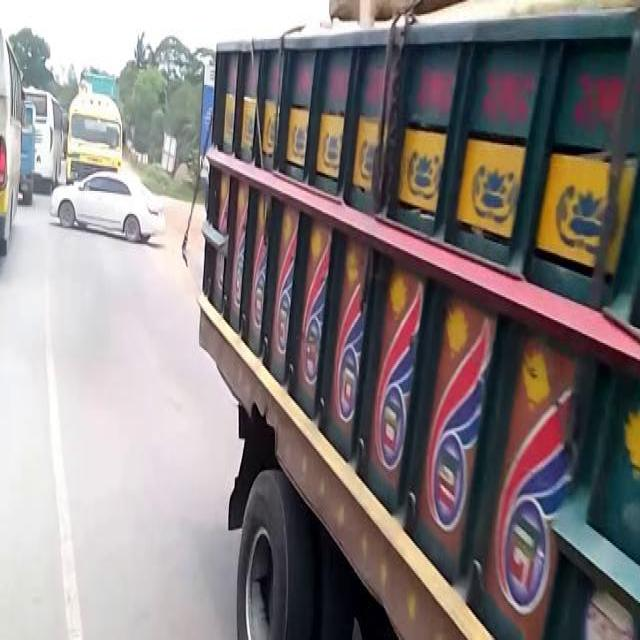bus: (0, 30, 21, 253), (22, 82, 64, 192)
car: (45, 165, 167, 243)
truck: (192, 2, 636, 634), (64, 69, 126, 184)
